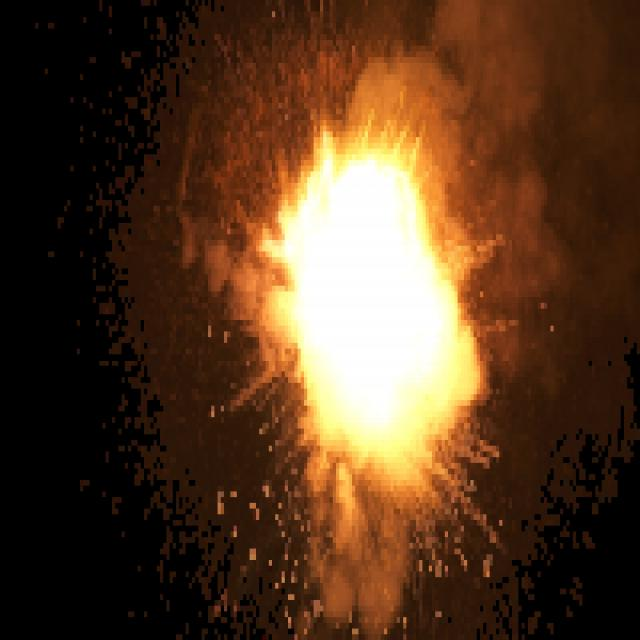fire: (205, 0, 525, 623)
